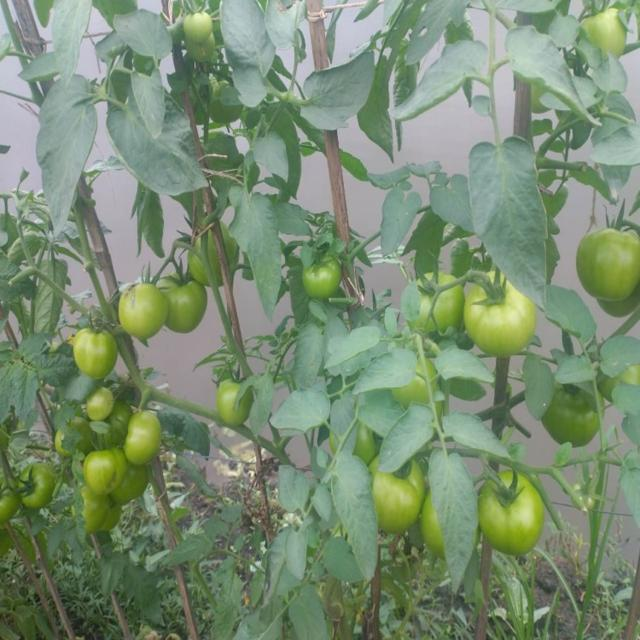tomato: (469, 471, 563, 565), (466, 272, 536, 362), (572, 224, 640, 313), (368, 457, 422, 537), (537, 390, 606, 452), (116, 280, 170, 342), (411, 276, 466, 335), (415, 492, 454, 565), (161, 266, 202, 335), (73, 326, 116, 382), (577, 10, 630, 52), (297, 251, 346, 295), (86, 447, 128, 496), (126, 410, 162, 467), (217, 383, 257, 434), (84, 492, 129, 536), (19, 467, 56, 510), (119, 461, 151, 503), (183, 12, 219, 49), (86, 381, 115, 419), (1, 485, 19, 527), (49, 427, 68, 454)
